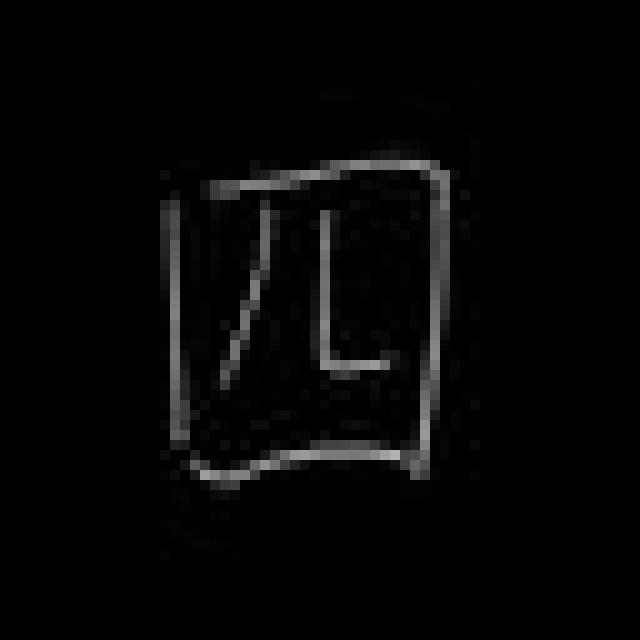4 -four-: (143, 151, 469, 492)
